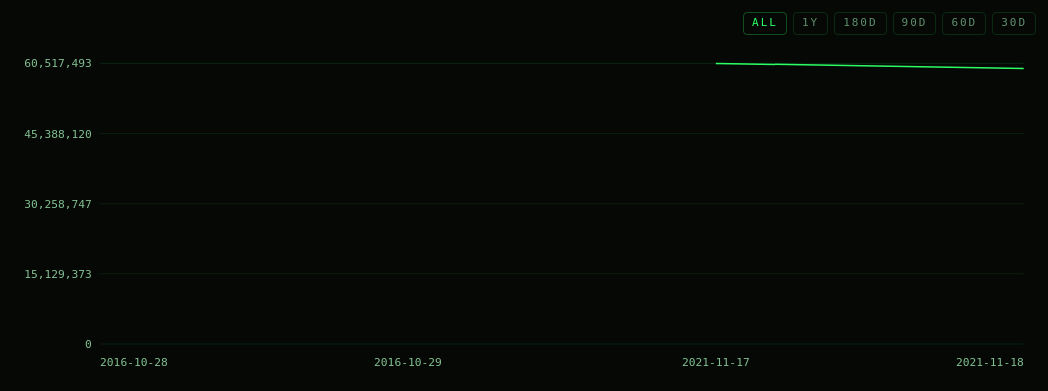
Test: difficulty leaves an unrecorded day blank › still reads a measured day as its exact figure
The width and height of the screenshot is (1048, 391).
Focus the element named "use the arrow keys": {"x": 524, "y": 210} [12, 46, 1036, 374]
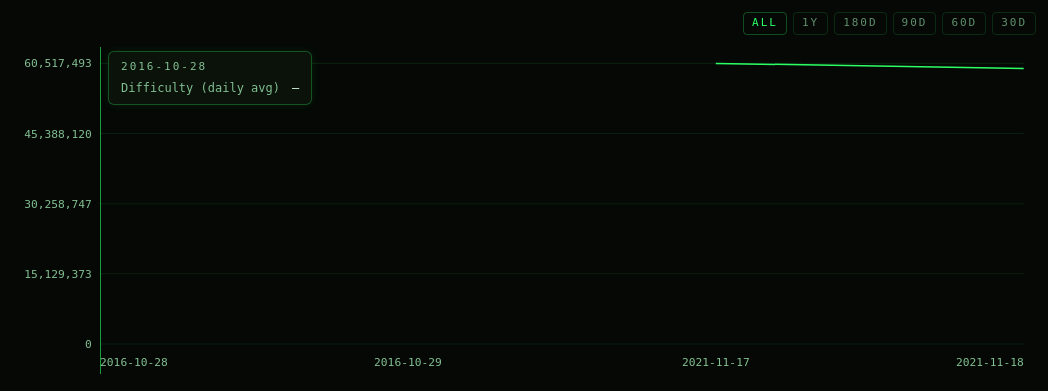
Press End in the element named "use the arrow keys"
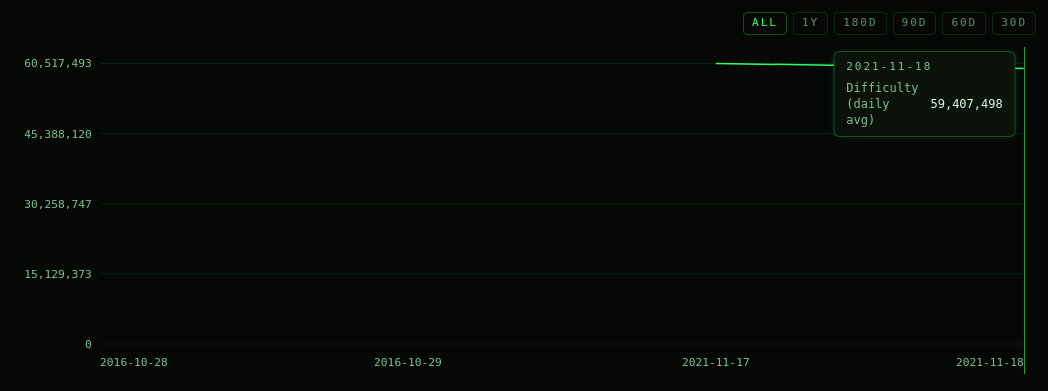
Now the message shows "59,407,498", box [930, 97, 1003, 111]
